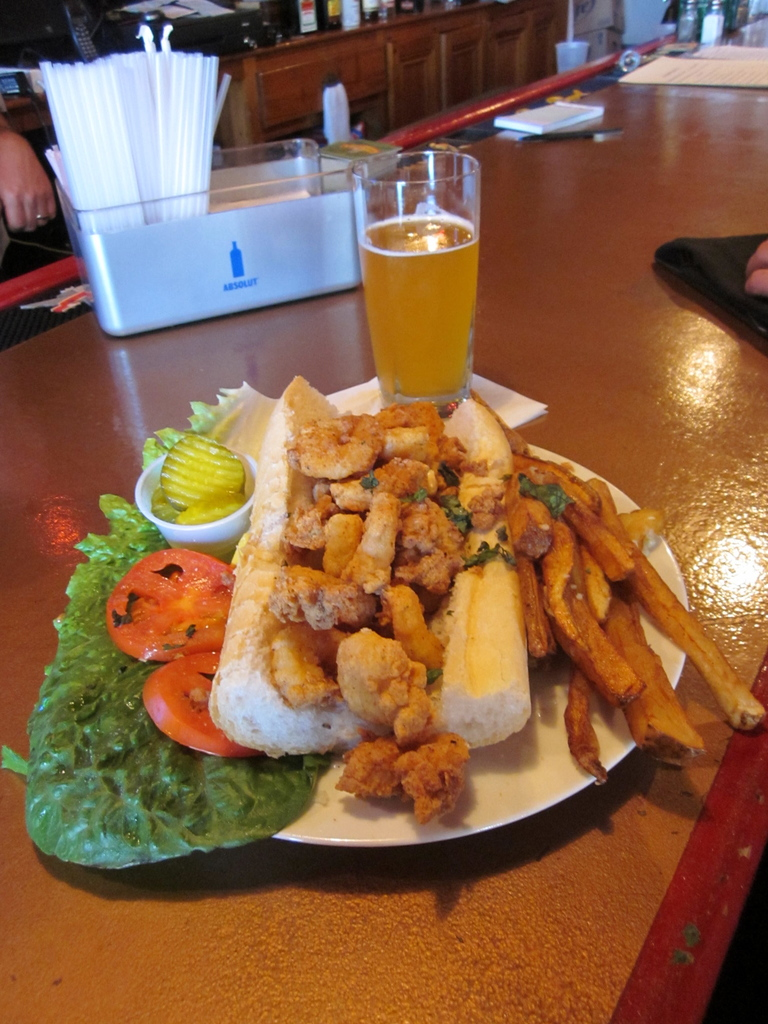French fries: (481, 471, 739, 750)
